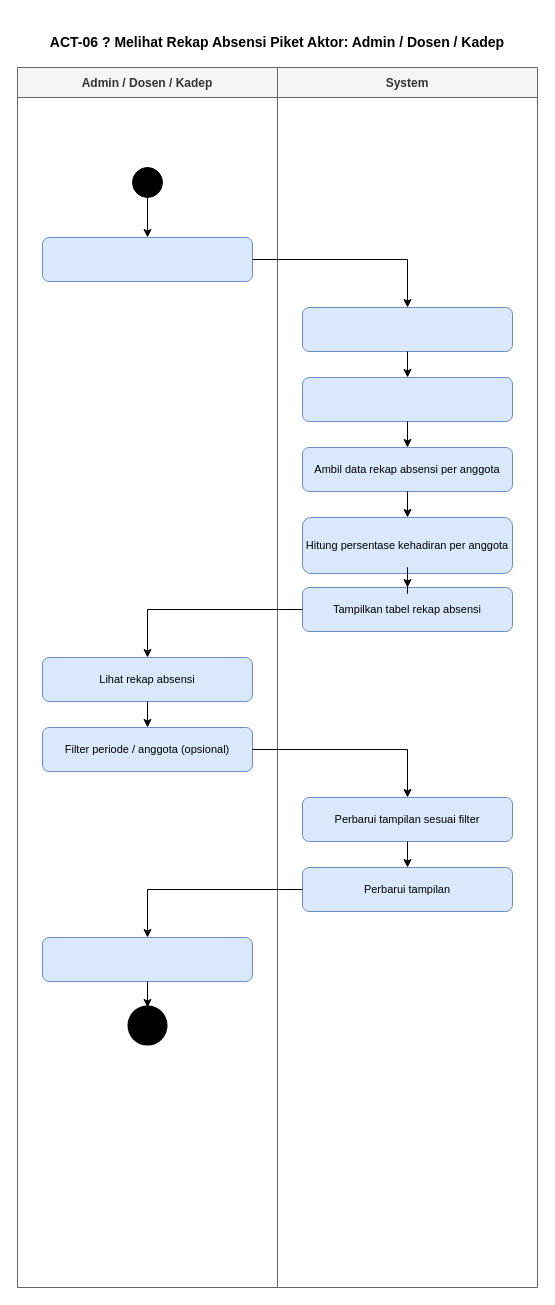
Some shapes in this 555 by 1305 pixel diagram are drawn without their labels. The centre of each missing label's shape, as x and y in pixels:
"Ambil data kepengurusan lab aktif" goes at [407,399].
"Buka menu Rekap Absensi Piket" goes at [147,259].
"Cek autentikasi & role" goes at [407,329].
"Lihat rekap sesuai filter" goes at [147,959].
